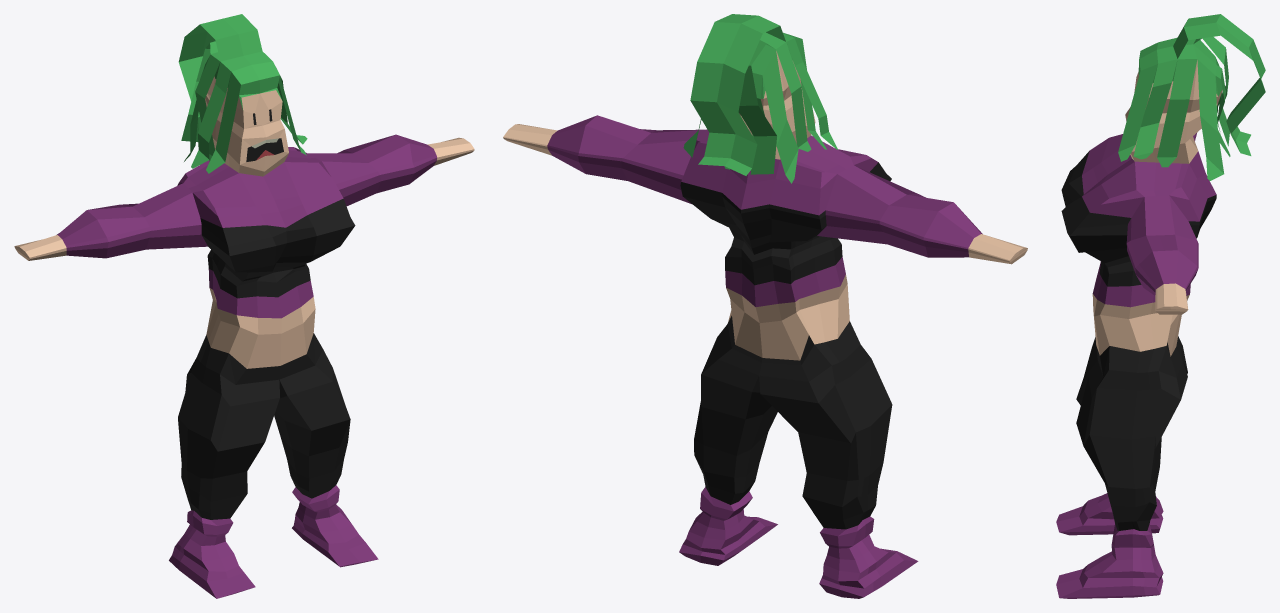
The model's file is Fille1.fbx.
3 renders of one model, left to right at view 1: azimuth 30°, elevation 25°; view 2: azimuth 150°, elevation 25°; view 3: azimuth 270°, elevation 25°, orthographic. The views are drawn at different scales.
Visible parts, largest first — view 1: Cube; view 2: Cube; view 3: Cube.
Part boxes in pixels (bbox=[...]): Cube: bbox=[14, 14, 474, 598]; Cube: bbox=[503, 14, 1027, 598]; Cube: bbox=[1056, 14, 1265, 598].
Bounding box in the file's own units: 831 × 908 × 321.
